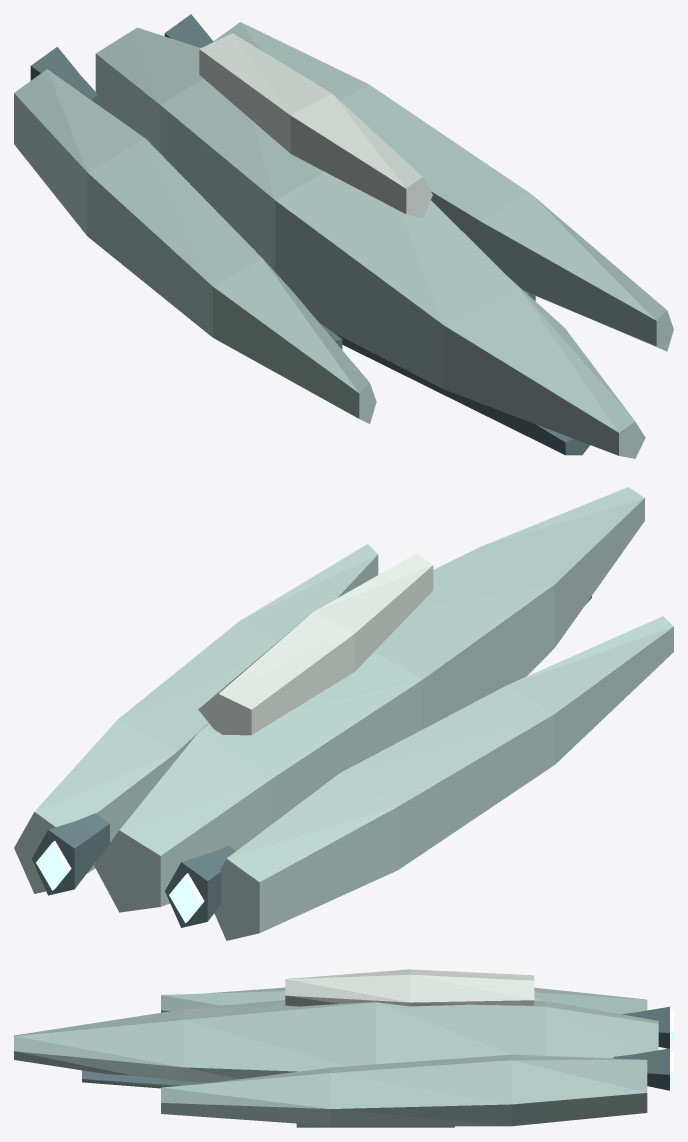
3 renders of one model, top to bottom at view 1: azimuth 30°, elevation 25°; view 2: azimuth 150°, elevation 25°; view 3: azimuth 270°, elevation 25°, orthographic. The views are drawn at different scales.
Size of the model in its own units: 6.1 by 3.37 by 15.69.
